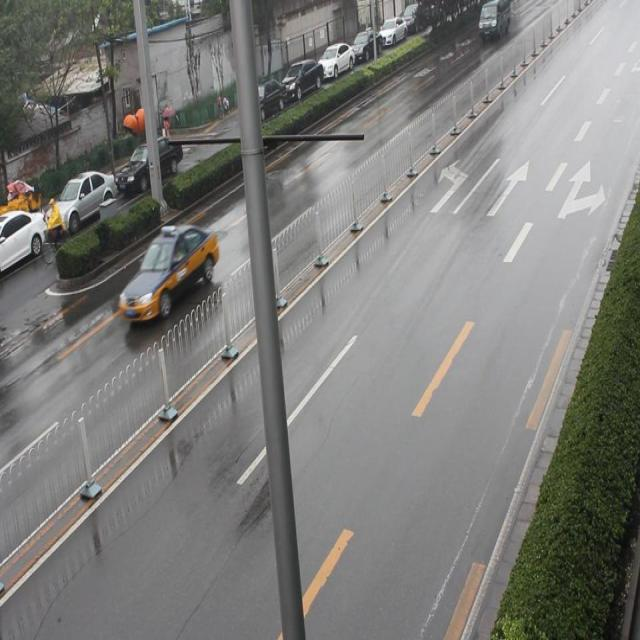car: (121, 220, 217, 330)
